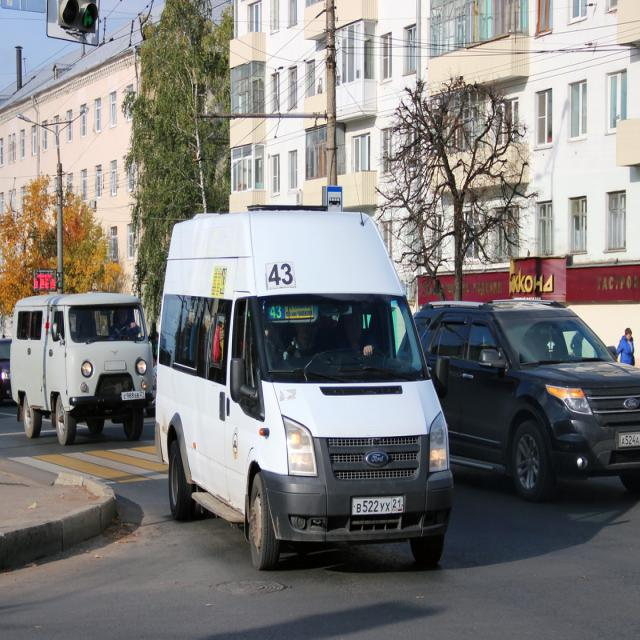number-of-bus: (267, 263, 295, 287), (269, 304, 285, 322)
